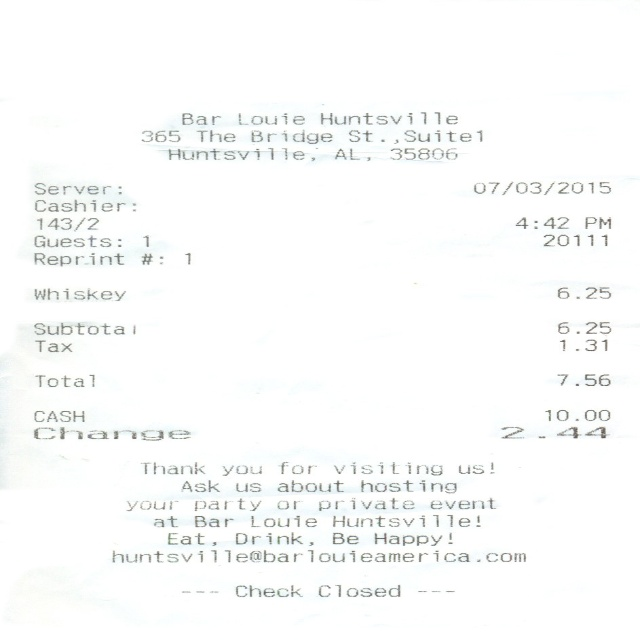invoice_table: (30, 285, 613, 305)
invoice_title: (139, 109, 487, 162)
invoice_total: (35, 373, 612, 392)
